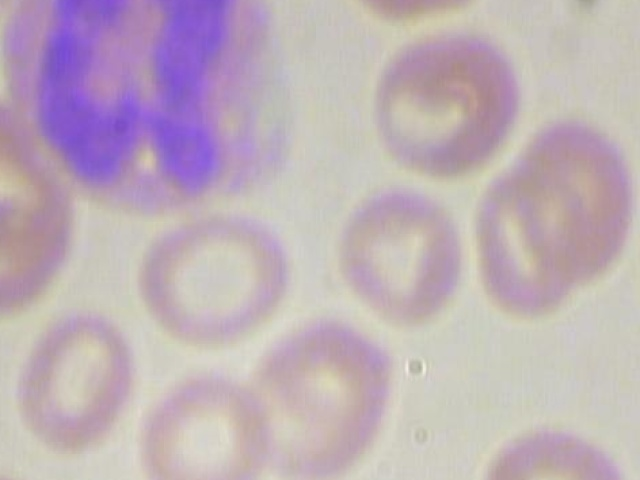RBC: (347, 24, 531, 185), (234, 310, 403, 480), (134, 208, 310, 349), (328, 176, 476, 331), (5, 303, 140, 464), (462, 164, 600, 320), (134, 362, 283, 480), (464, 428, 640, 480), (344, 0, 493, 20), (0, 466, 75, 480), (0, 0, 17, 43)
WBC: (0, 0, 321, 227)
